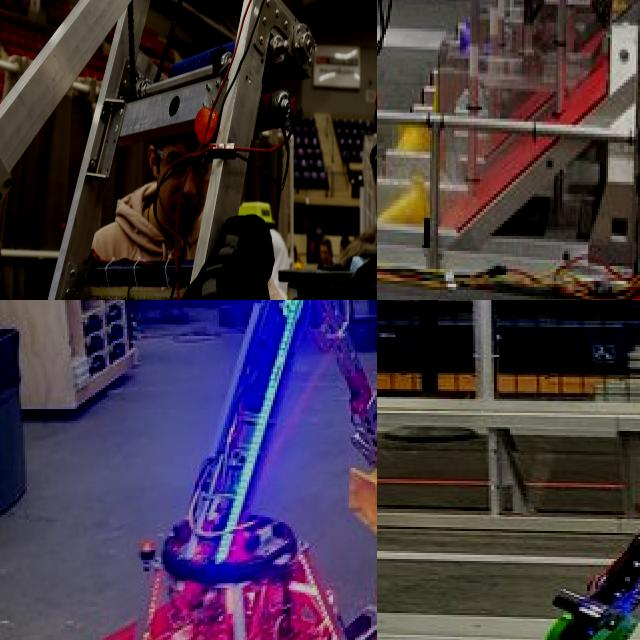FRC-Robots: (41, 300, 377, 640), (0, 0, 303, 300), (463, 332, 640, 640)
